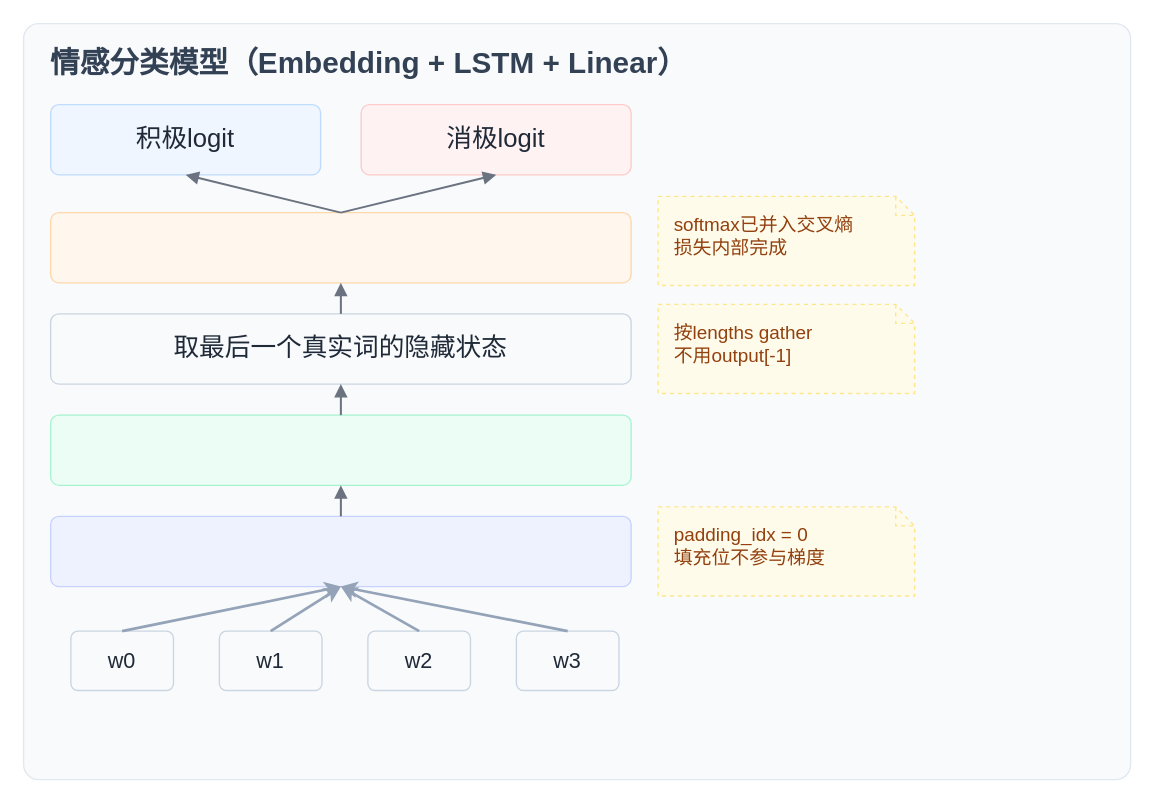
The diagram is 1154 pixels wide and 803 high, and some of its shapes have lost their labels. Each missing label, with the box of its shape:
Embedding（20002 × 128）: (49, 515, 631, 587)
Linear（hidden → 2）: (49, 211, 631, 283)
LSTM（层数 × 隐藏维，可调）: (49, 414, 631, 485)
